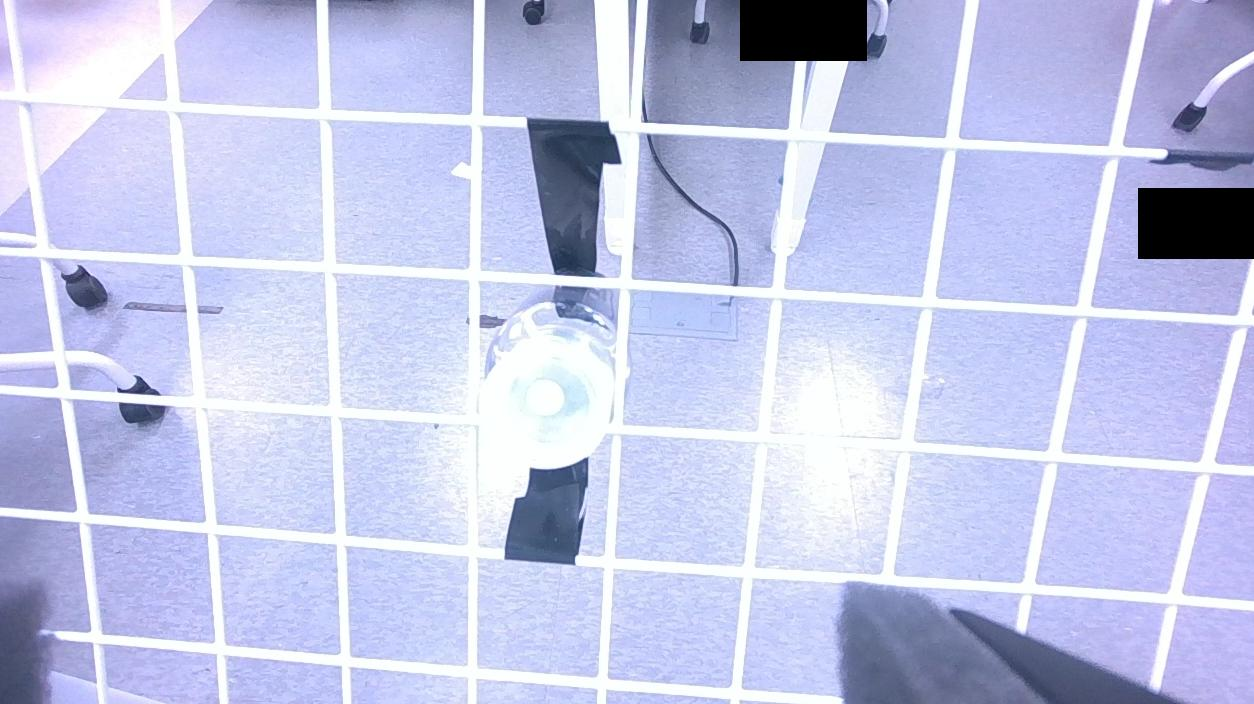Cap: (488, 342, 603, 470)
